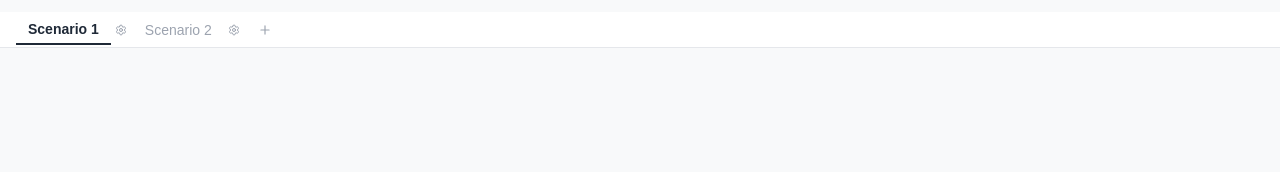
ScenarioTabBar › clicking Rename puts tab into edit mode with an input
What coordinates should you click on to do the following:
click the button named "options for"
I would click on:
 (121, 30)
Its box is [113,22,129,38].
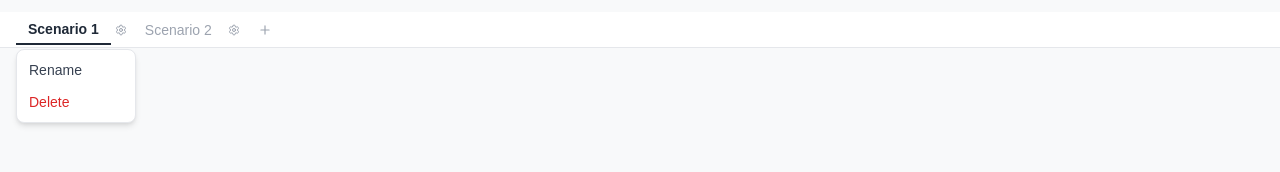
What coordinates should you click on to do the following:
click the button "Rename"
I would click on:
 (76, 70)
Its box is [17,54,135,86].
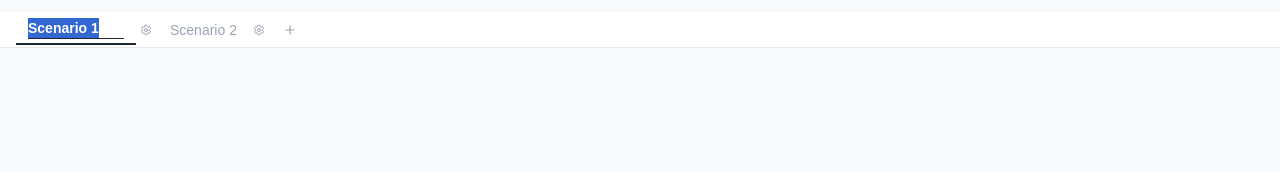
Expected: the field holds "Scenario 1", [28,18,124,39]
